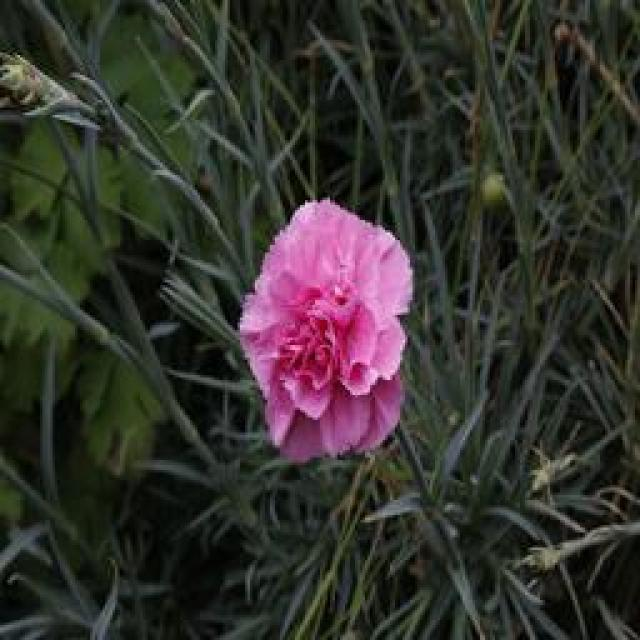carnation: (231, 188, 432, 459)
